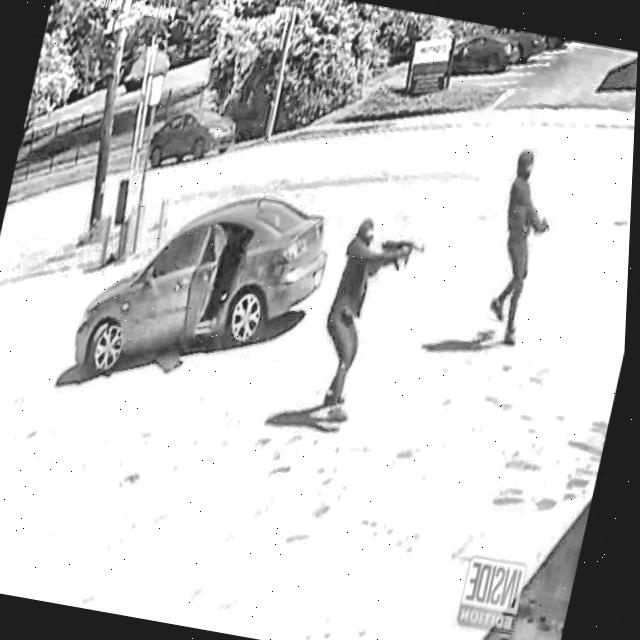robbery: (301, 147, 563, 440)
